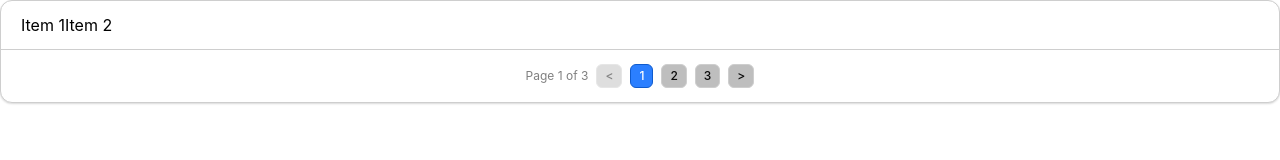
Scenario: PaginatedCard › changes page when next is clicked
This screenshot has width=1280, height=160.
Step 1. Click the button ">" → (741, 76), box x1=728 y1=64 x2=754 y2=88
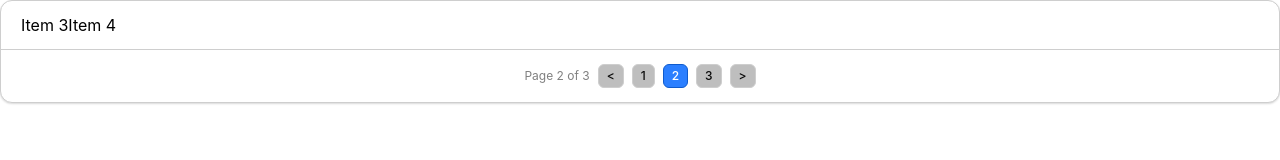
Expected: the text "Item 1" is gone
Expected: the text "Item 3" is shown, x1=21 y1=15 x2=68 y2=35
Expected: the text "Item 4" is shown, x1=68 y1=15 x2=116 y2=35
